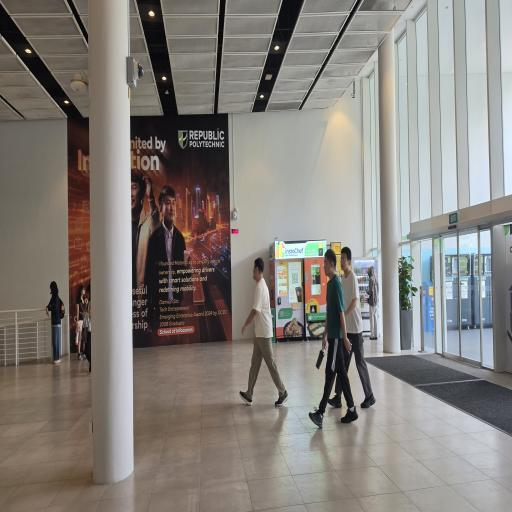person_left: (240, 244, 290, 410), (338, 244, 376, 412), (314, 242, 346, 432)
